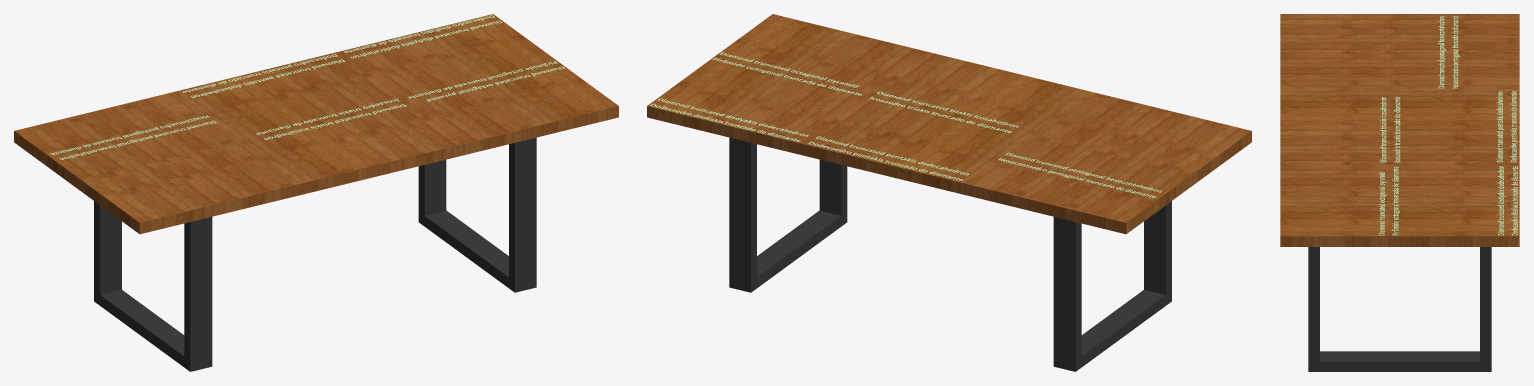
Rendered from diamonds6.glb.
The picture shows the model from 3 angles, left to right: view 1: azimuth 30°, elevation 25°; view 2: azimuth 150°, elevation 25°; view 3: azimuth 270°, elevation 25°; orthographic projection. The views are drawn at different scales.
Parts seen in each view (by area): view 1: object 1, Composant#1 (×2), Diamond truncate#4, Diamond truncate#1, Diamond truncate#3, Diamond truncate, Diamond truncate#2; view 2: object 1, Composant#1 (×2), Diamond truncate#4, Diamond truncate#3, Diamond truncate#1, Diamond truncate, Diamond truncate#2; view 3: object 1, Composant#1, Diamond truncate#3, Diamond truncate#4, Diamond truncate#1, Diamond truncate, Diamond truncate#2.
Part boxes in pixels (box(x1,y1,x2,y2)): object 1: box(14, 14, 618, 234); Composant#1 (×2): box(94, 137, 536, 371); Diamond truncate#4: box(51, 115, 216, 159); Diamond truncate#1: box(344, 15, 502, 58); Diamond truncate#3: box(182, 54, 344, 97); Diamond truncate: box(407, 61, 564, 101); Diamond truncate#2: box(256, 99, 406, 139); object 1: box(647, 14, 1251, 234); Composant#1 (×2): box(729, 137, 1171, 371); Diamond truncate#4: box(998, 152, 1161, 197); Diamond truncate#3: box(808, 136, 968, 180); Diamond truncate#1: box(650, 98, 808, 141); Diamond truncate: box(712, 52, 862, 95); Diamond truncate#2: box(870, 91, 1018, 133); object 1: box(1280, 14, 1519, 246); Composant#1: box(1308, 247, 1491, 371); Diamond truncate#3: box(1496, 91, 1518, 162); Diamond truncate#4: box(1438, 16, 1459, 88); Diamond truncate#1: box(1497, 166, 1517, 235); Diamond truncate: box(1378, 166, 1399, 235); Diamond truncate#2: box(1380, 96, 1400, 162).
Size of the model in its own units: 2.2 by 0.771 by 1.
Materials: 3 (1 with a texture image).
